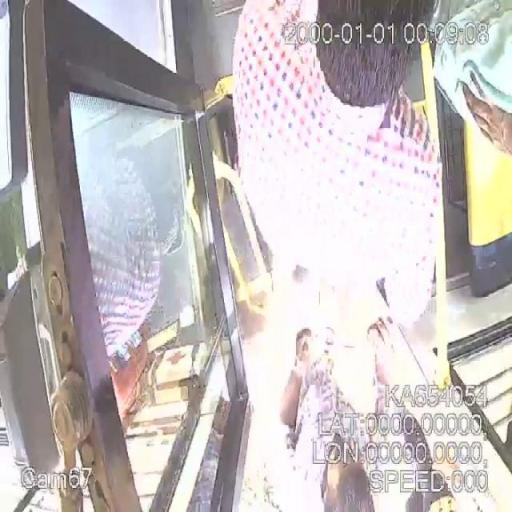persona: (230, 0, 446, 328), (279, 325, 398, 512)
